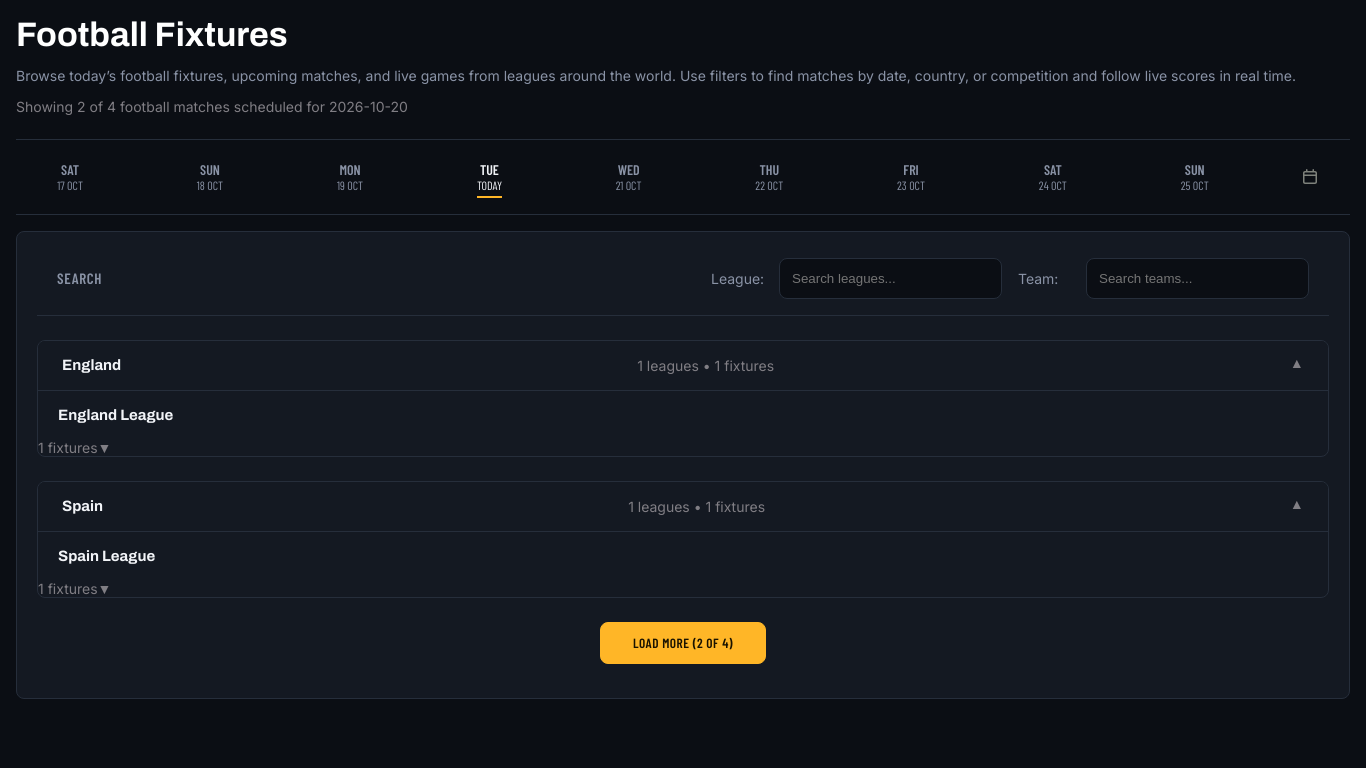
Test: sorts initial and paginated countries alphabetically without losing existing matches
Expected: the heading "Spain" is shown, x1=62 y1=498 x2=103 y2=514
Click the button "Load More (2 of 4)".
click(683, 643)  # box x1=600 y1=622 x2=766 y2=664
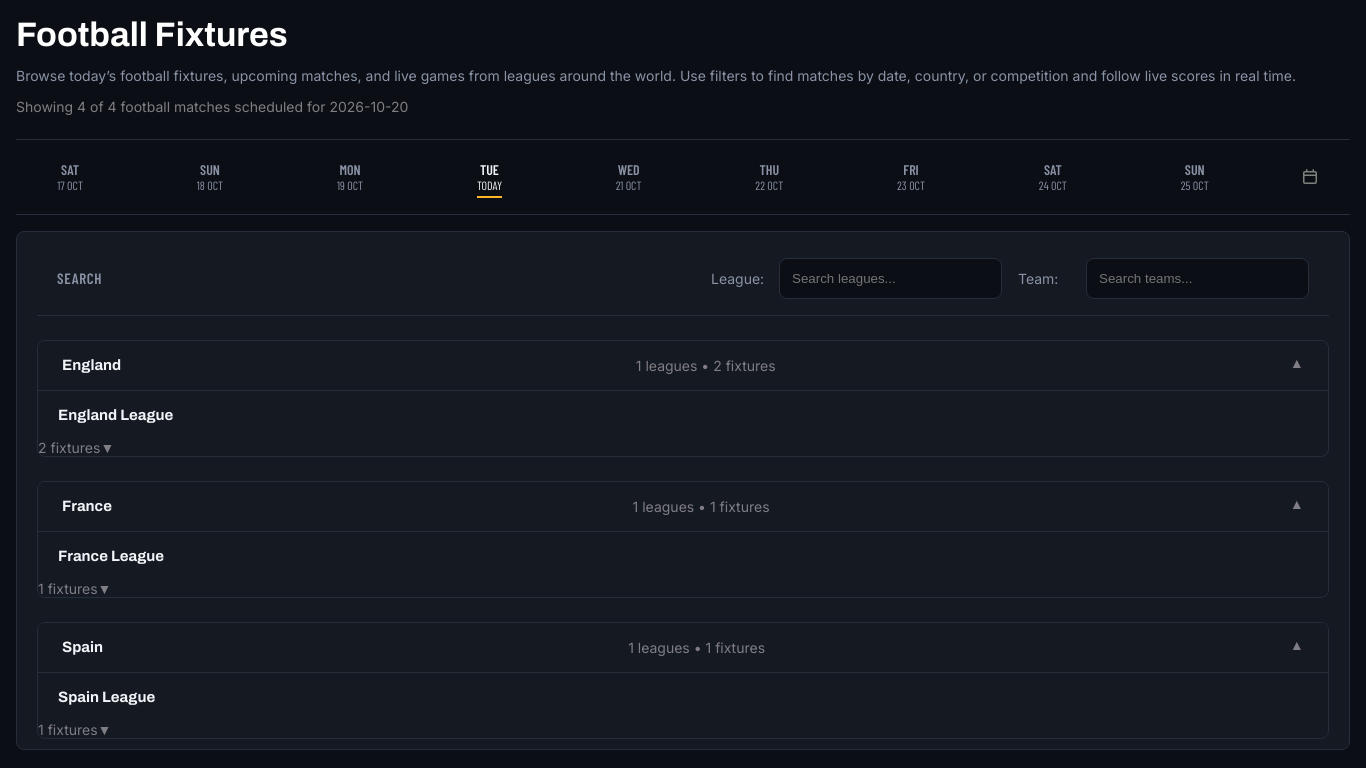
Expected: the text "Showing 4 of 4 football matches scheduled for 2026-10-20" is shown, x1=16 y1=98 x2=408 y2=115
